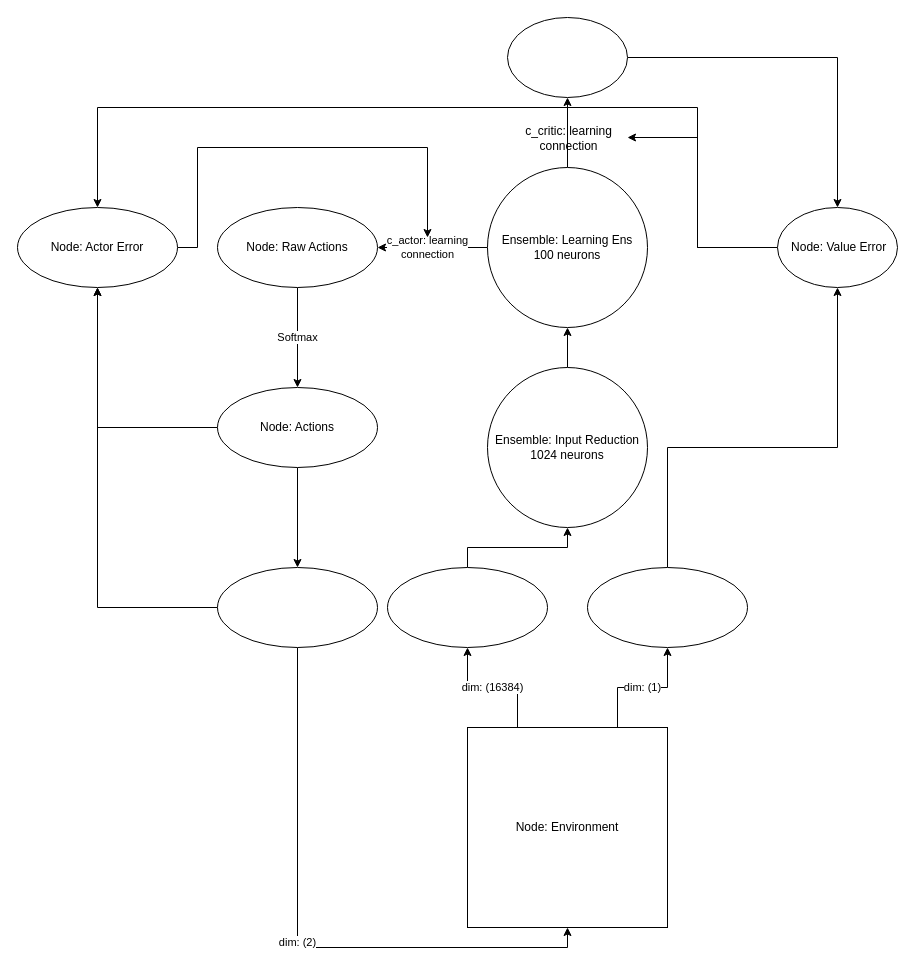
The diagram is 915 pixels wide and 973 high, and some of its shapes have lost their labels. Here are the shapes that lost their labels. From the top down, the centre of each, then its label:
At [567,57]: "Node: Value".
At [297,607]: "Node: Choice (action)".
At [467,607]: "Node: State".
At [667,607]: "Node: Reward".
